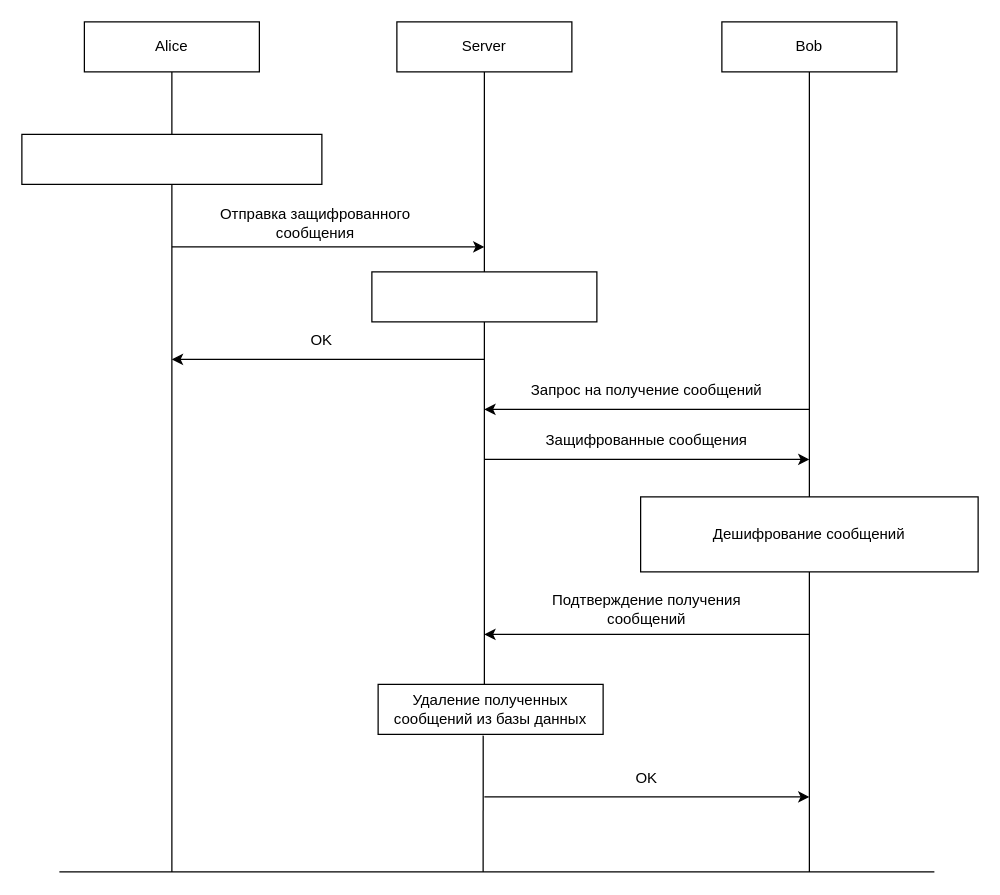
Image size: 1000x895. Some labels were removed from this diagram. Here are the shapes that lost their labels. From the top down, the centre of each, then its label:
(x=171, y=158): Щифрование сообщения
(x=484, y=296): Сохранение сообщения в базе данных
